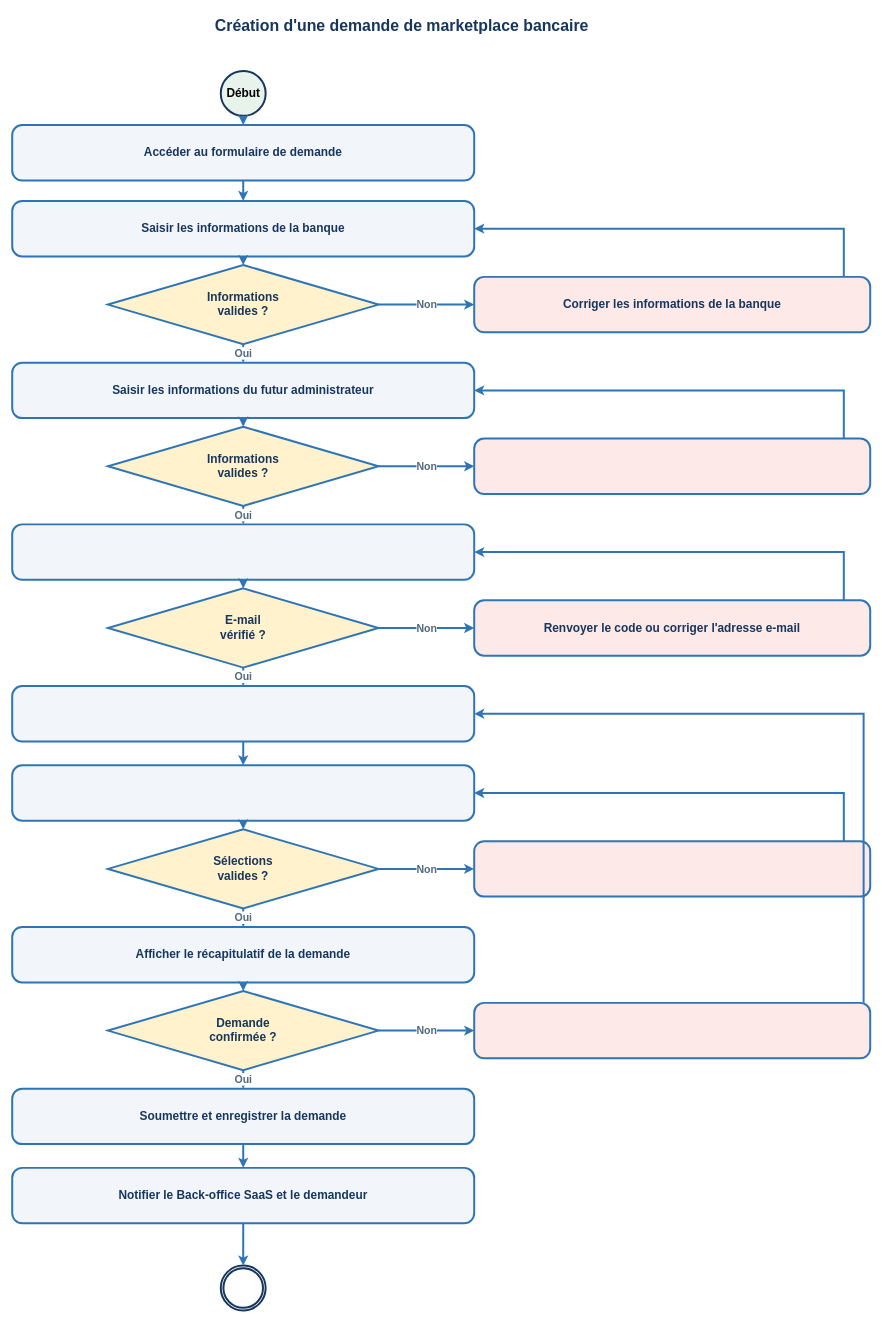
Some shapes in this 882 by 1323 pixel diagram are drawn without their labels. Here are the shapes that lost their labels. From the top down, the centre of each, then its label:
At point 672,466: "Corriger les informations de l'administrateur".
At point 243,551: "Envoyer et saisir le code de vérification e-mail".
At point 243,713: "Configurer l'identité de la marketplace".
At point 243,792: "Sélectionner les stores, les modules et l'offre".
At point 672,868: "Modifier les stores, les modules ou l'offre".
At point 672,1030: "Modifier la configuration".
At point 242,1287: "Fin".
